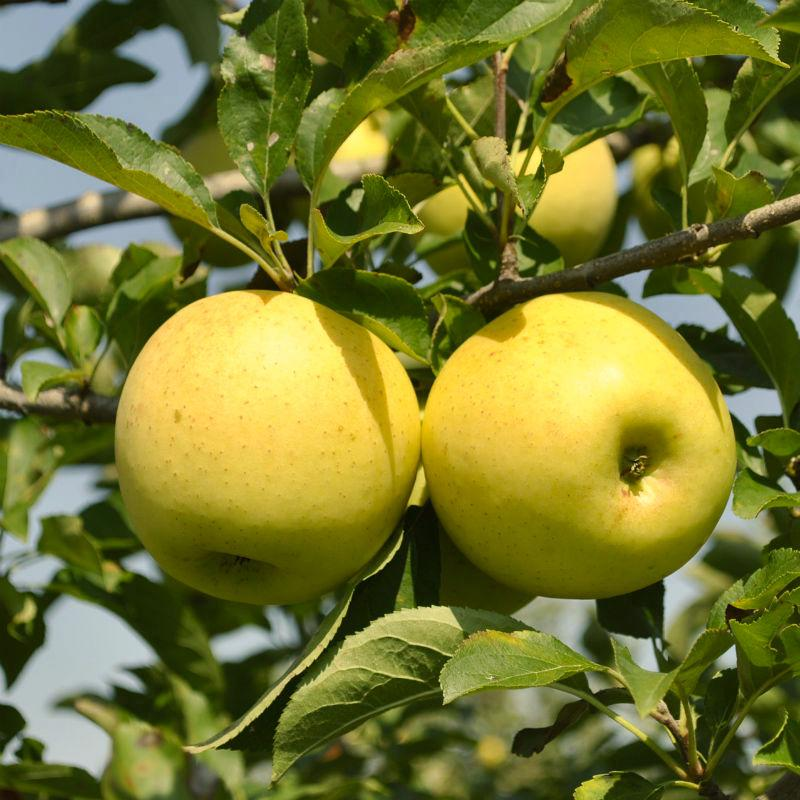apple: (420, 293, 737, 600), (113, 289, 420, 603)
